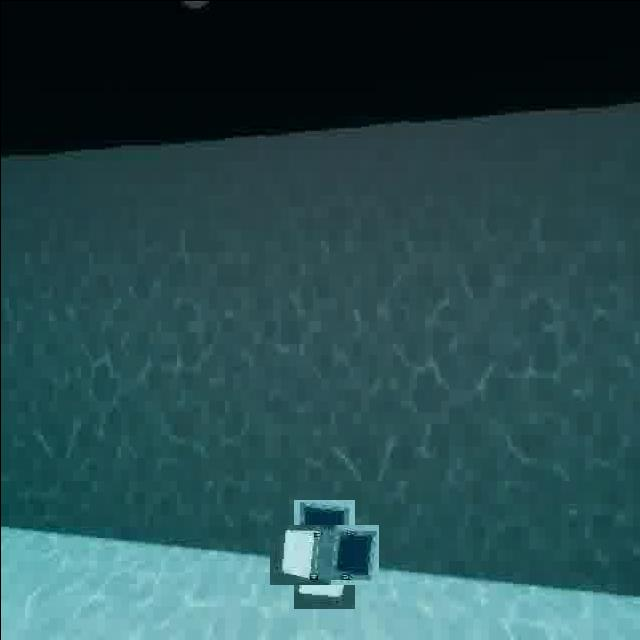Docking Station: (281, 511, 366, 596)
